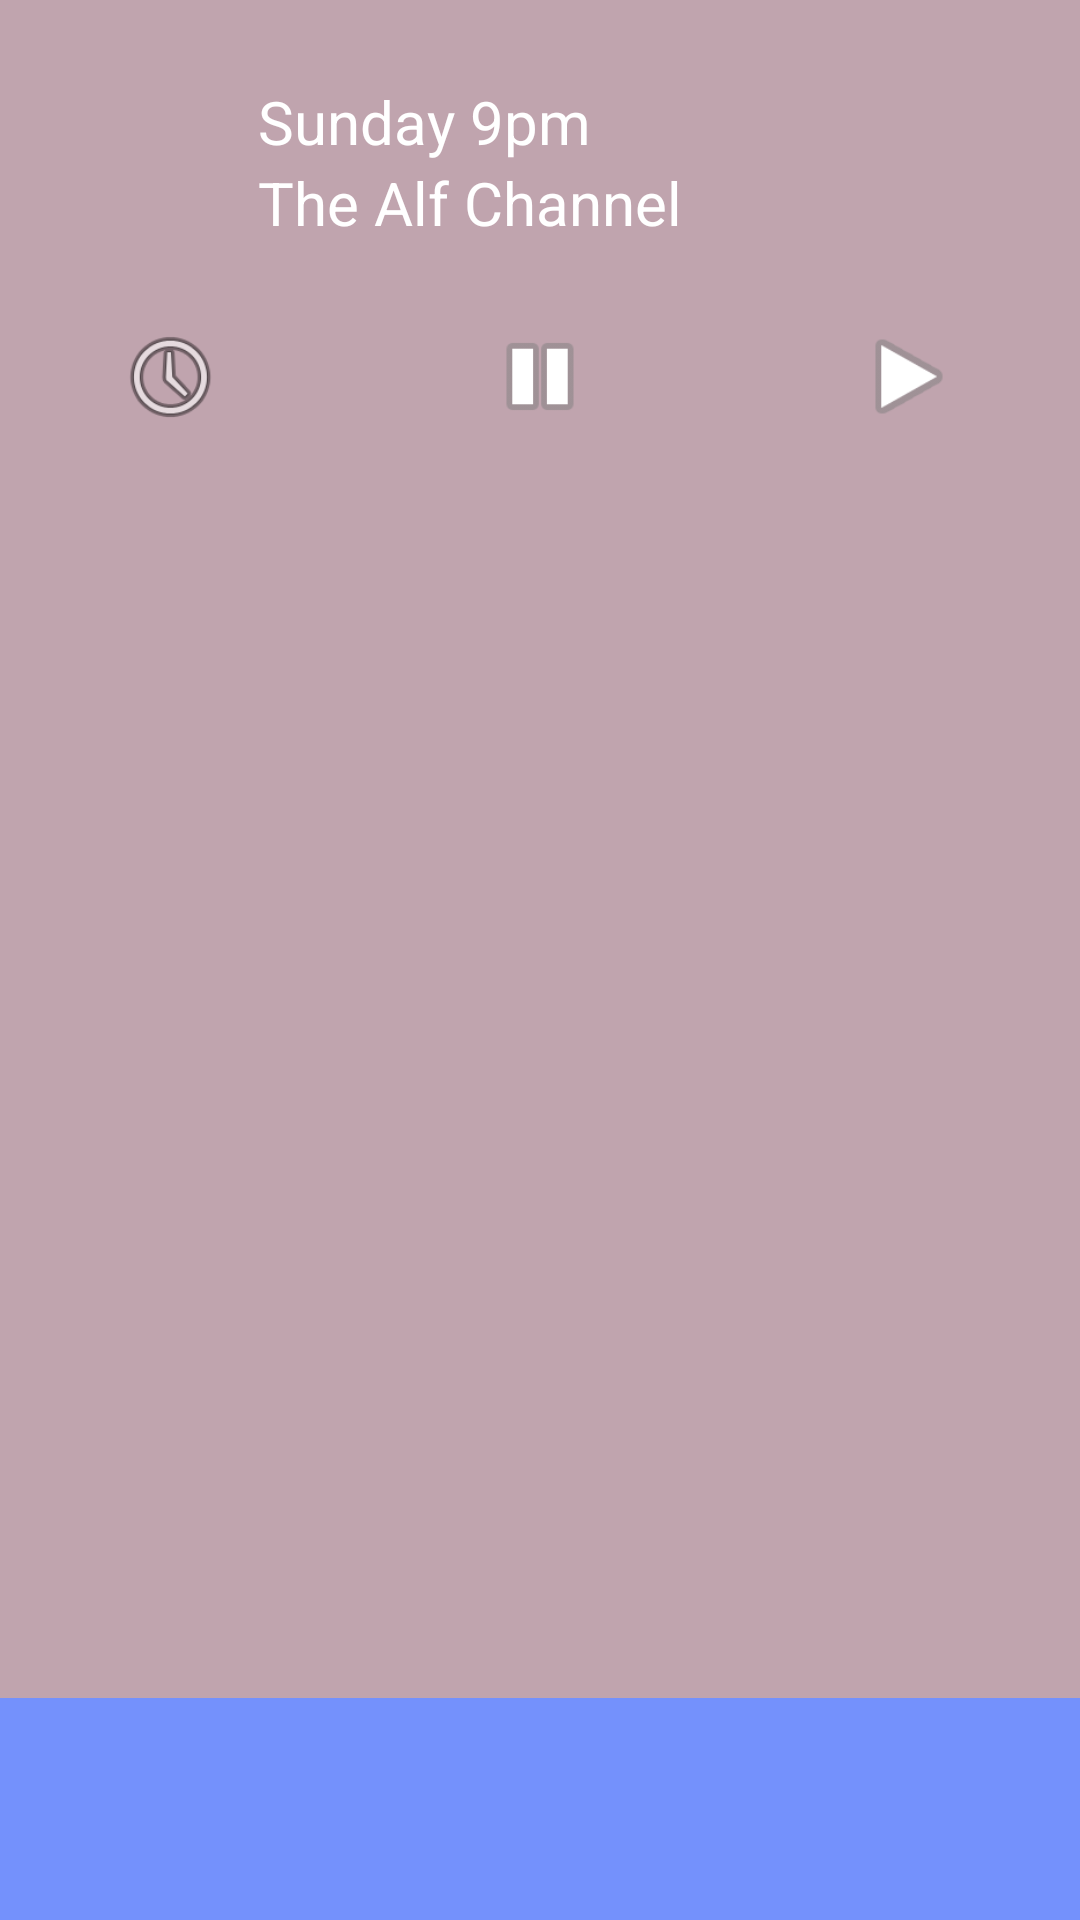

Icon bounding boxes for this 1080px x 1920px phone screenshot, format (x1, y1, x2, y2):
pause: (507, 343, 573, 410)
play: (876, 340, 942, 413)
recent history: (130, 337, 211, 417)
